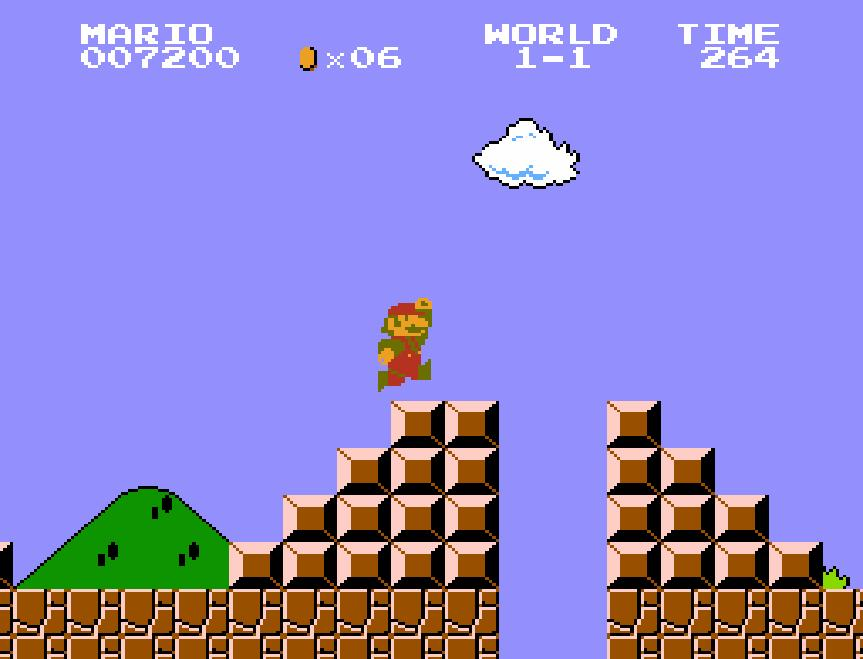big_mario: (376, 295, 434, 394)
